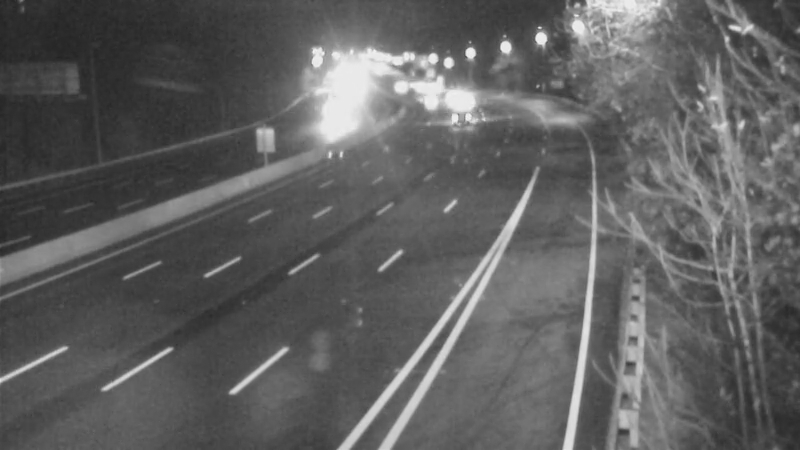vehicle: (405, 71, 455, 121), (436, 78, 486, 128), (438, 92, 488, 142)
